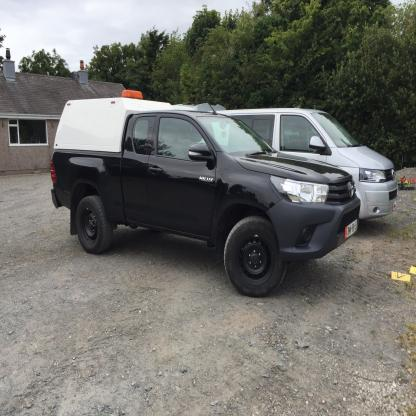light_vehicle: (36, 89, 370, 309)
